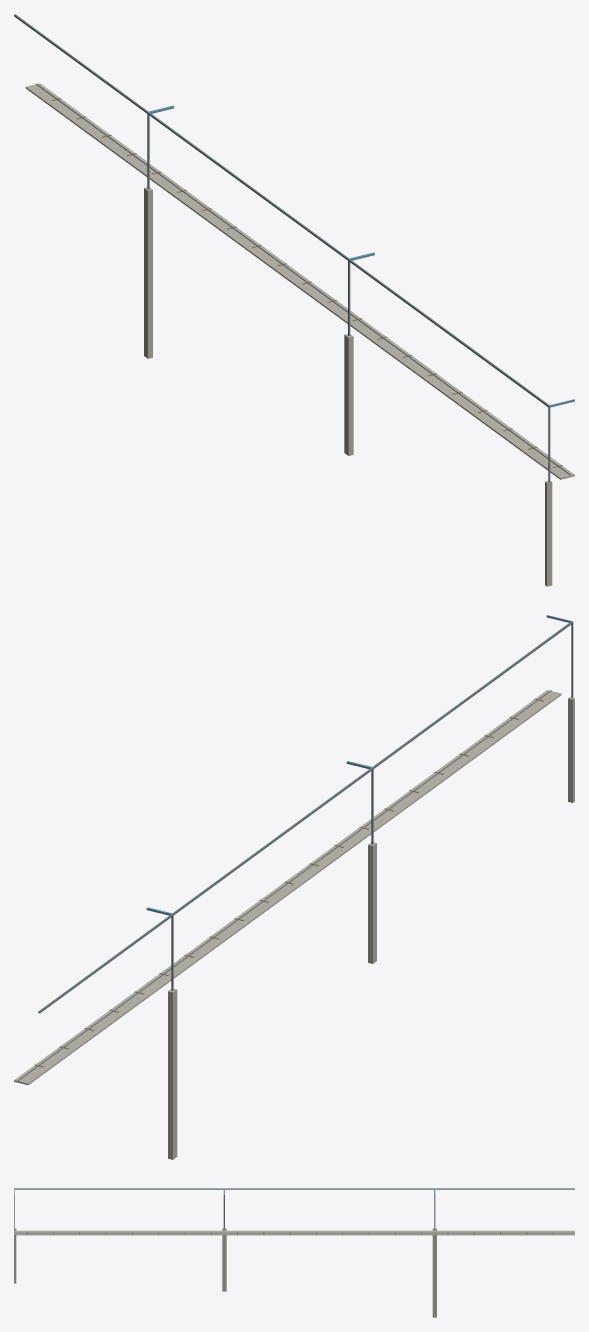
The model's file is valley-7-8.glb.
3 views of the same model, one above another, from view 1: azimuth 30°, elevation 25°; view 2: azimuth 150°, elevation 25°; view 3: azimuth 270°, elevation 25° (orthographic). The views are drawn at different scales.
Visible parts, largest first — view 1: valley-7-8; view 2: valley-7-8; view 3: valley-7-8.
Boxes of the visible parts, left/top/right/bottom form: valley-7-8: left=14, top=14, right=574, bottom=586; valley-7-8: left=14, top=615, right=574, bottom=1159; valley-7-8: left=14, top=1188, right=574, bottom=1317.
Bounding box in the file's own units: 7.7 × 64.59 × 256.
